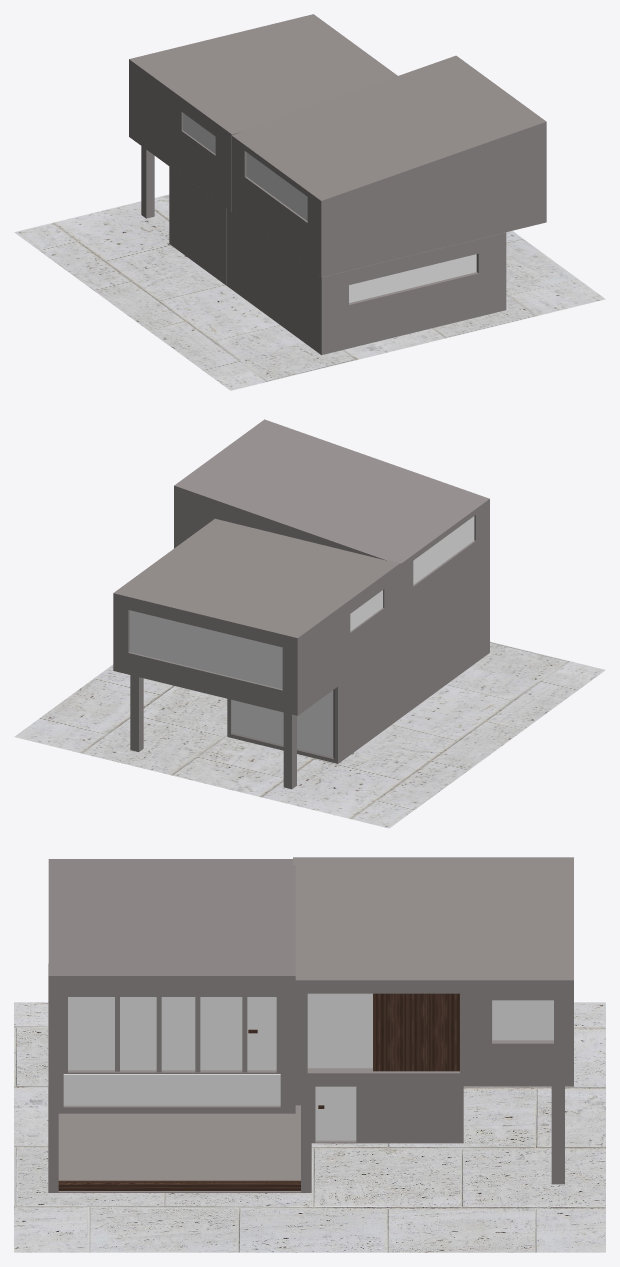
Rendered from house1.glb.
3 renders of one model, top to bottom at view 1: azimuth 30°, elevation 25°; view 2: azimuth 150°, elevation 25°; view 3: azimuth 270°, elevation 25°, orthographic. The views are drawn at different scales.
Visible parts, largest first — view 1: Cube.001, Plane, Cube.002, Cube, Cube.003, Cube.024, Cube.021, Cube.005; view 2: Plane, Cube.002, Cube.001, Cube, Cube.019, Cube.003, Cube.023, Cube.021, Cube.004, Cube.005; view 3: Plane, Cube.002, Cube.001, Cube, Cube.025, Cube.006, Plane.001, Cube.003, Cube.017, garagedoor, Cube.018, Cube.022 (+3 smaller).
Boxes of the visible parts, x1,y1,x2,y2 form: Cube.001: (232, 55, 546, 277); Plane: (14, 194, 605, 390); Cube.002: (129, 14, 397, 211); Cube: (227, 209, 506, 355); Cube.003: (169, 166, 226, 285); Cube.024: (349, 254, 476, 302); Cube.021: (246, 152, 307, 220); Cube.005: (141, 146, 154, 218); Plane: (14, 641, 605, 828); Cube.002: (113, 518, 400, 715); Cube.001: (174, 419, 489, 639); Cube: (395, 575, 489, 721); Cube.019: (129, 610, 282, 689); Cube.003: (227, 644, 395, 763); Cube.023: (231, 690, 333, 756); Cube.021: (413, 516, 474, 584); Cube.004: (130, 675, 143, 751); Cube.005: (283, 712, 296, 789); Plane: (14, 1002, 605, 1252); Cube.002: (293, 857, 573, 1086); Cube.001: (48, 859, 295, 1113); Cube: (48, 964, 311, 1192); Cube.025: (68, 997, 276, 1070); Cube.006: (63, 1074, 280, 1105); Plane.001: (373, 993, 459, 1071); Cube.003: (311, 1086, 463, 1143); Cube.017: (307, 993, 372, 1068); garagedoor: (58, 1180, 300, 1190); Cube.018: (492, 1000, 553, 1040); Cube.022: (315, 1086, 356, 1140).
Size of what is drawn, in the model's own units: 22.03 by 10.08 by 22.03.
5 materials, 3 textured.
